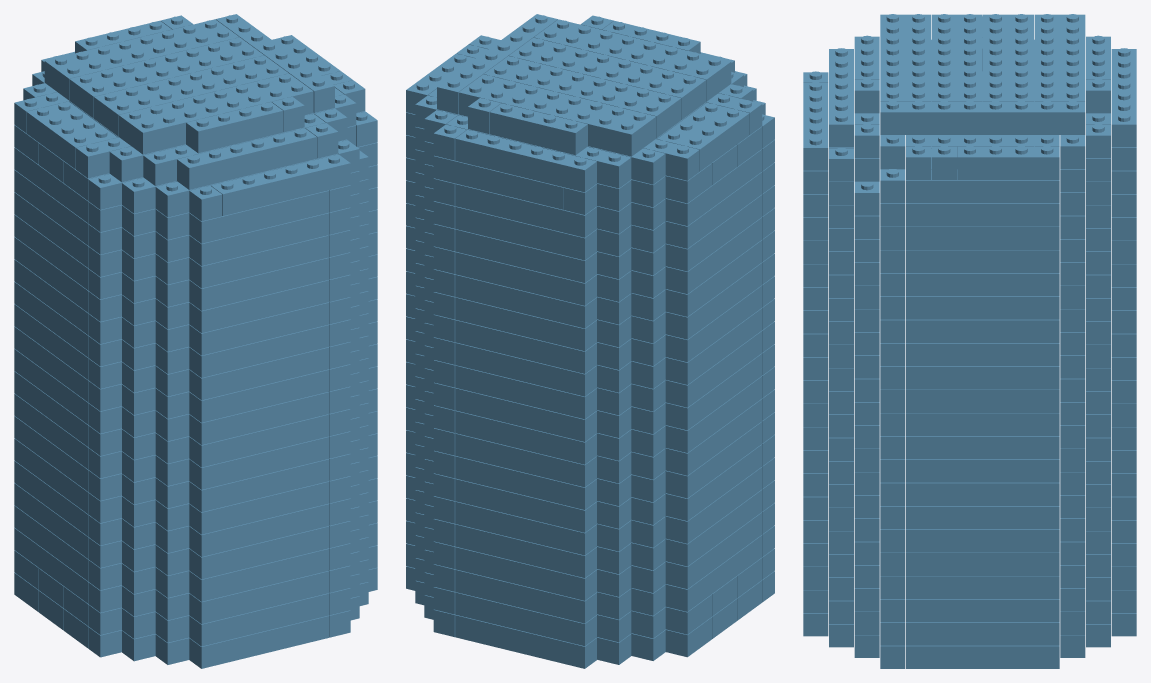
The model's file is 075_bookshelf_L5.glb.
3 views of the same model, side by side, from view 1: azimuth 30°, elevation 25°; view 2: azimuth 150°, elevation 25°; view 3: azimuth 270°, elevation 25° (orthographic). The views are drawn at different scales.
Size of the model in its own units: 12.98 by 23.13 by 12.98.
